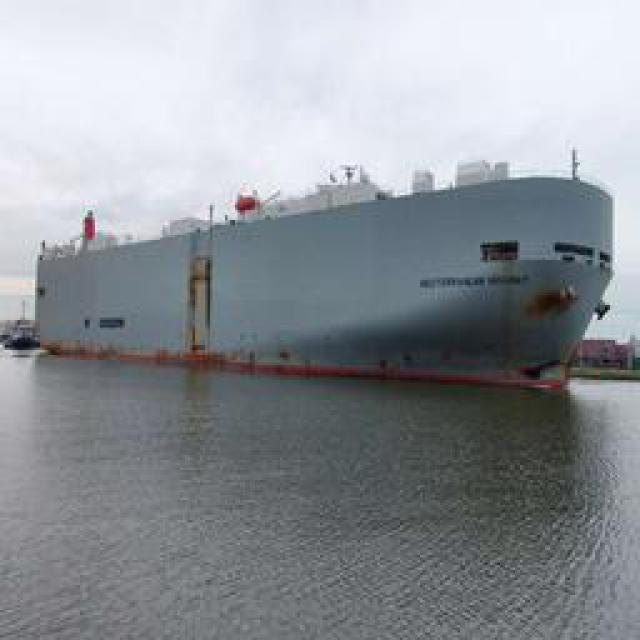Ship: (46, 156, 619, 381)
